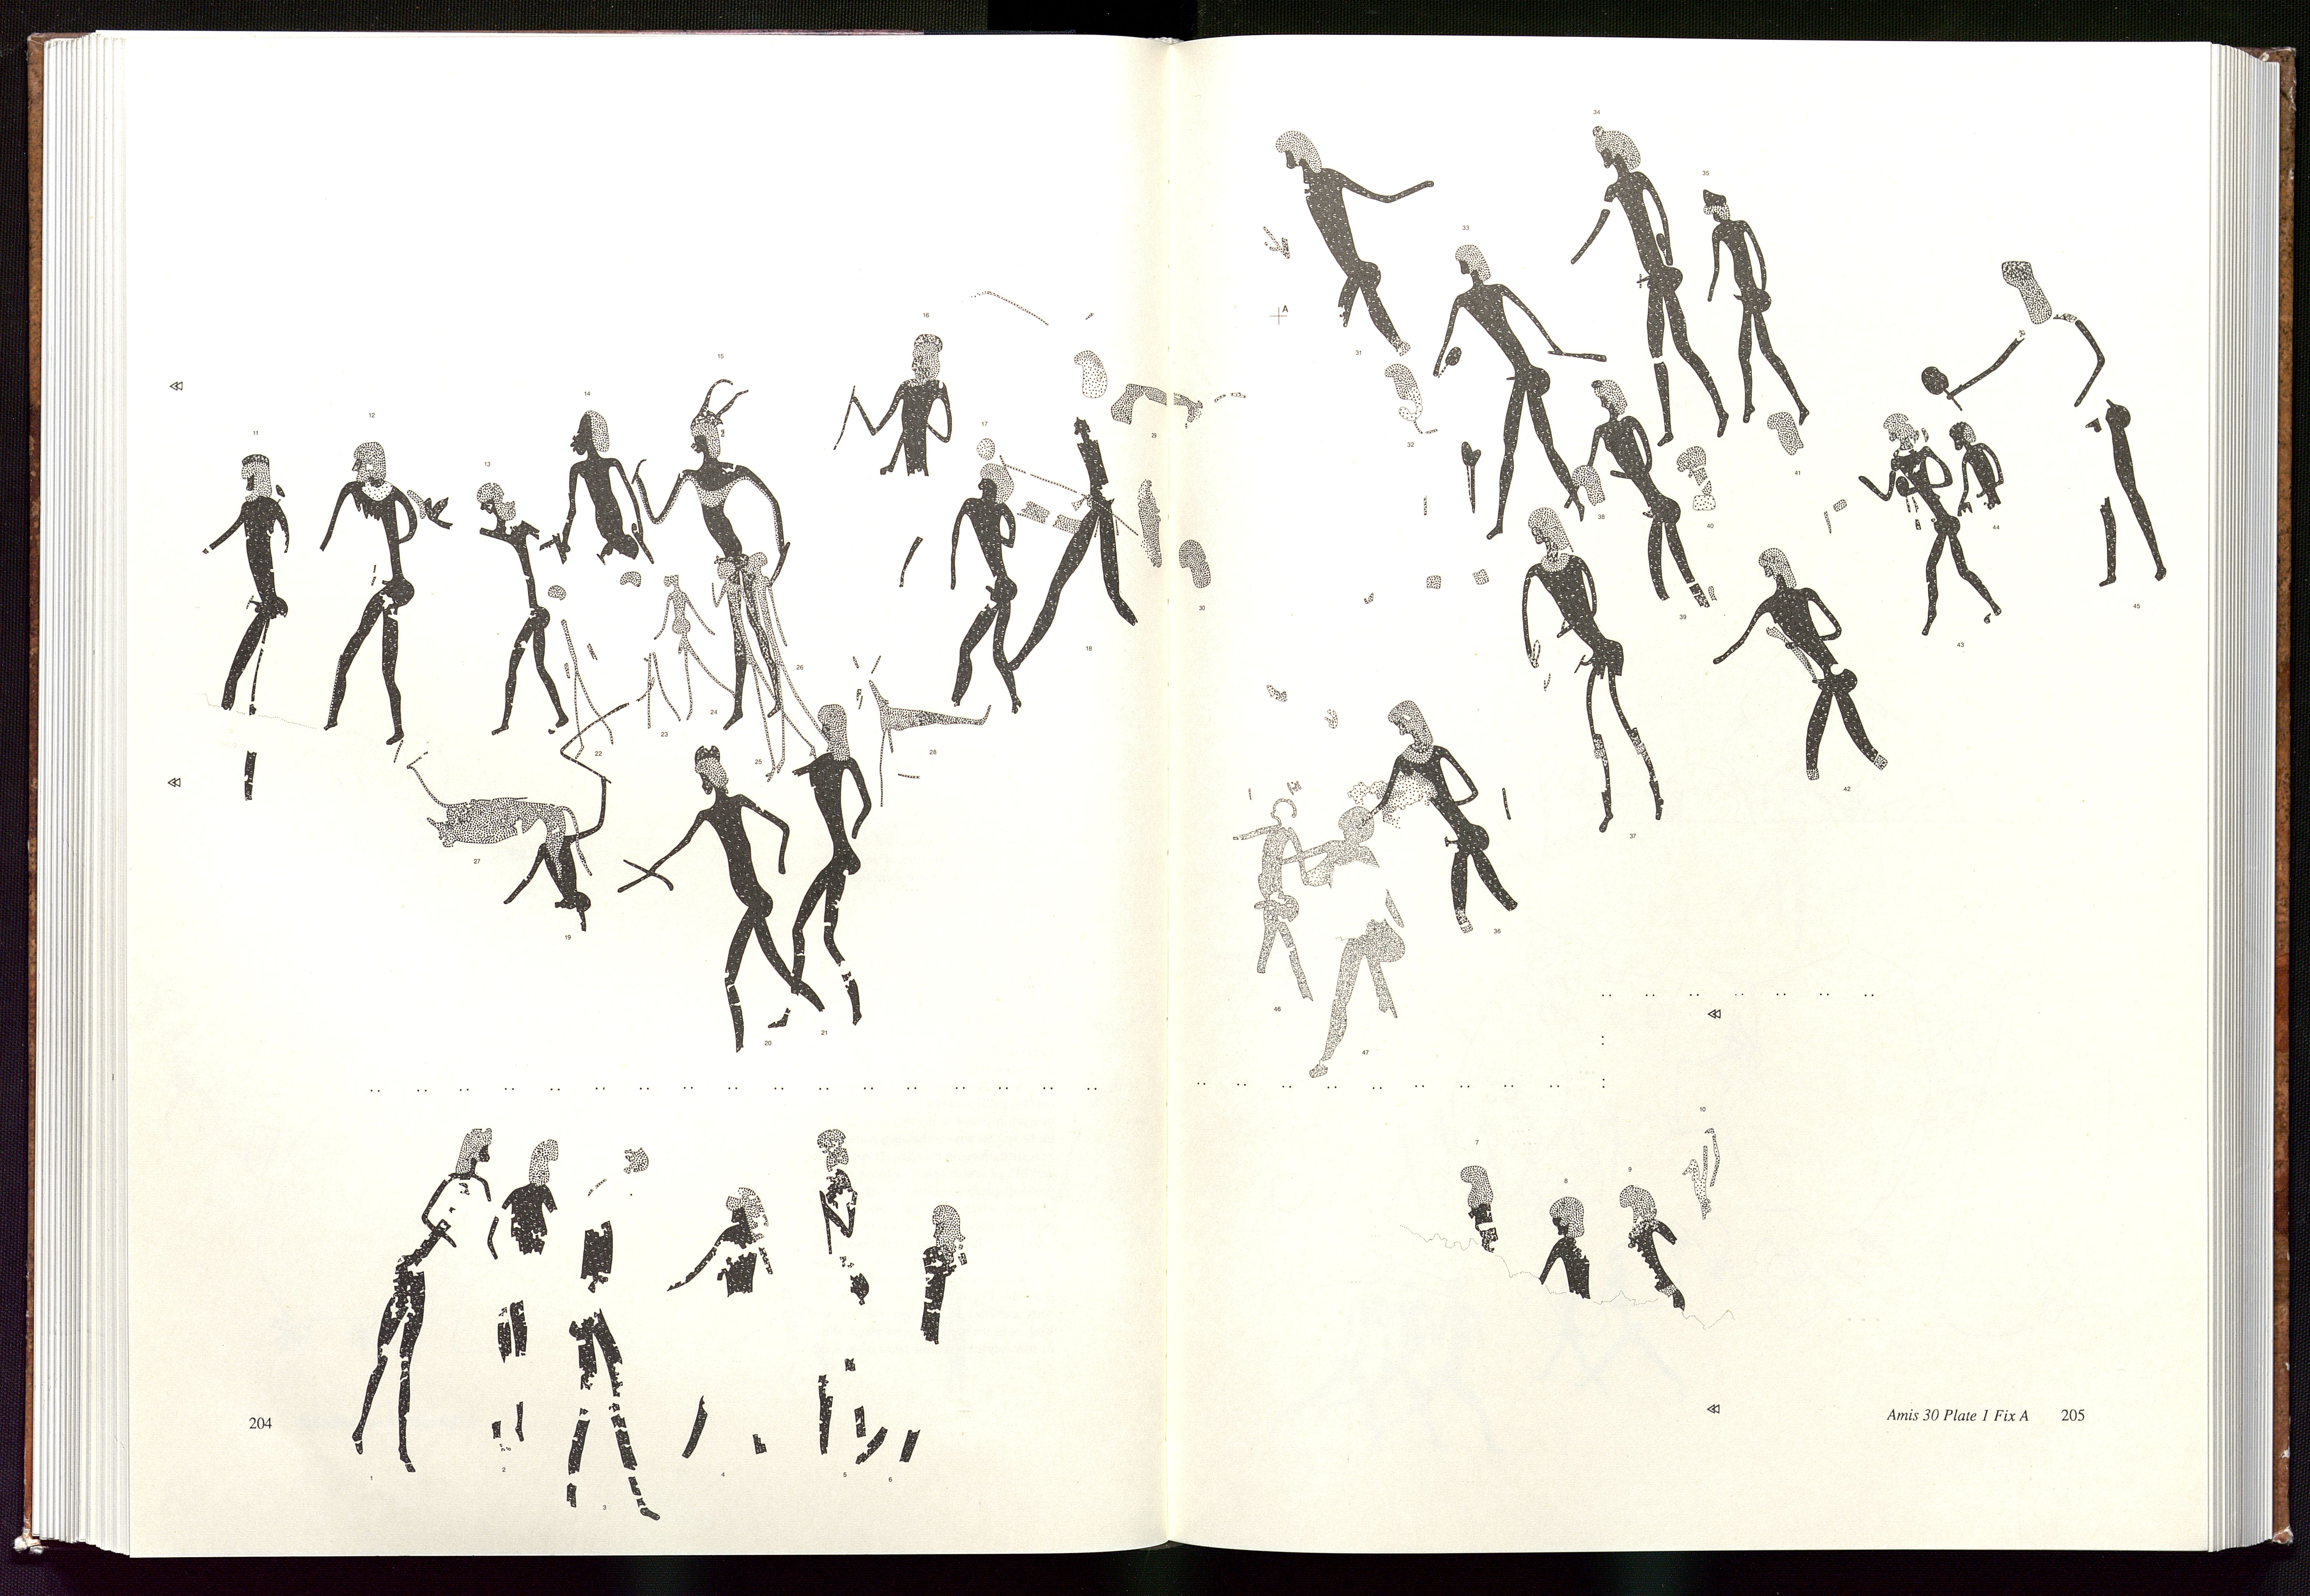animal: (404, 757, 606, 870)
human: (1266, 104, 1487, 551), (1912, 246, 2177, 617), (544, 389, 756, 747), (623, 372, 824, 740), (603, 738, 832, 1052), (1564, 109, 1728, 445), (350, 1118, 500, 1479), (1431, 227, 1601, 539), (547, 1148, 682, 1528), (1721, 536, 1897, 797), (1564, 369, 1728, 627), (1365, 691, 1522, 959), (765, 696, 888, 1032), (1684, 158, 1816, 433), (196, 445, 291, 821), (1004, 416, 1144, 674), (1853, 406, 2003, 644), (319, 431, 424, 762), (459, 465, 579, 747), (1293, 789, 1404, 1094), (842, 325, 960, 603), (665, 1180, 780, 1465), (861, 1204, 977, 1462), (800, 1121, 886, 1460), (942, 436, 1033, 730), (490, 1126, 567, 1457), (1227, 789, 1321, 998), (1603, 1170, 1704, 1342), (540, 578, 625, 777), (505, 775, 608, 932), (648, 563, 739, 740), (1937, 414, 2023, 539), (1436, 1150, 1517, 1280), (1532, 1185, 1605, 1325), (630, 632, 687, 743)
